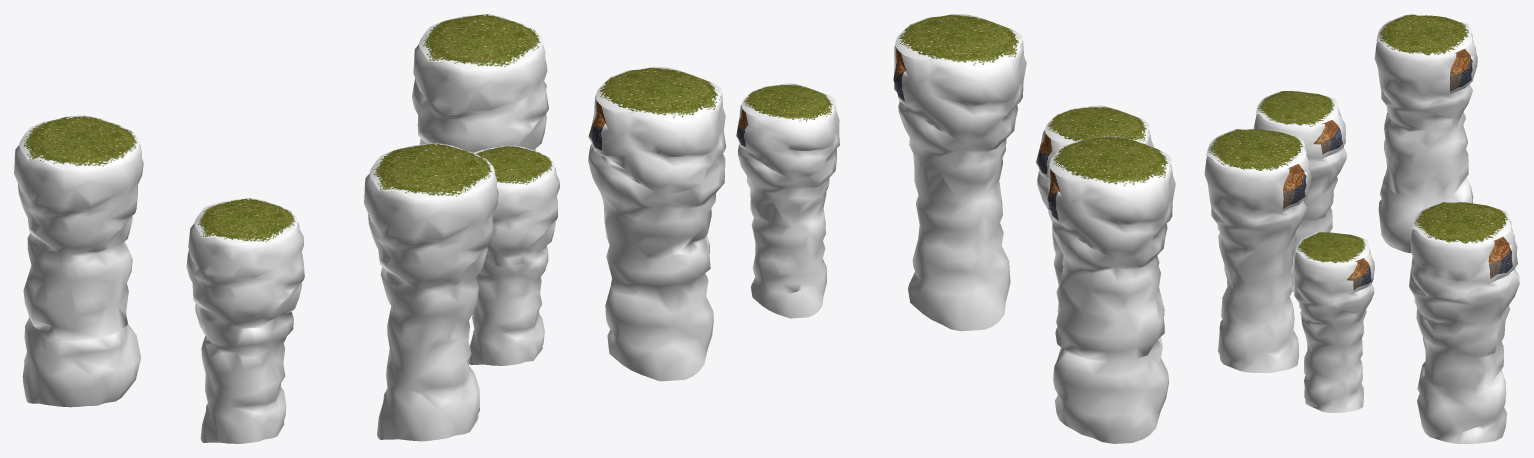
The model's file is CentralPlatformSmall.fbx.
3 views of the same model, side by side, from view 1: azimuth 30°, elevation 25°; view 2: azimuth 150°, elevation 25°; view 3: azimuth 270°, elevation 25° (orthographic). The views are drawn at different scales.
Visible parts, largest first — view 1: Remesh.003, Remesh.002; view 2: Remesh.003, Remesh.002; view 3: Remesh.003, Remesh.002.
Boxes of the visible parts, x1,y1,x2,y2 form: Remesh.003: (14,44,559,443); Remesh.002: (19,14,554,245); Remesh.003: (588,40,1175,443); Remesh.002: (595,14,1171,190); Remesh.003: (1204,33,1519,443); Remesh.002: (1206,14,1511,263).
Size of the model in its own units: 5689 by 2896 by 3481.
